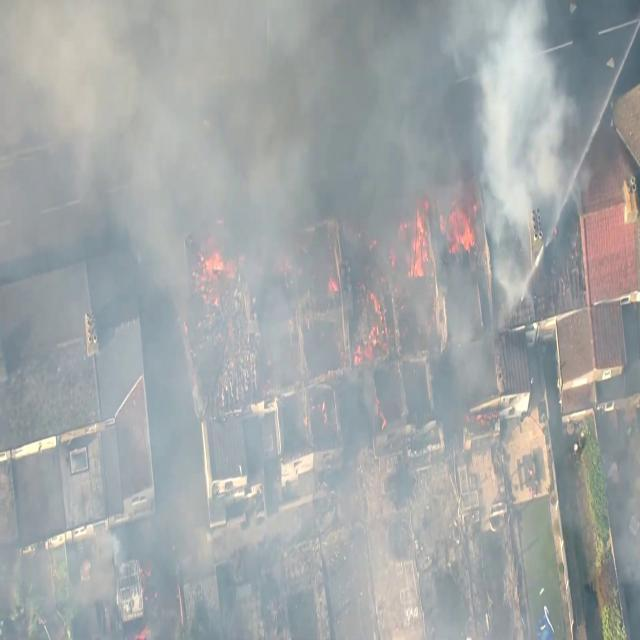Fire: (395, 206, 428, 297), (441, 204, 477, 273), (361, 292, 389, 374), (185, 256, 220, 305)
Smoke: (88, 0, 262, 178), (475, 2, 573, 214)
